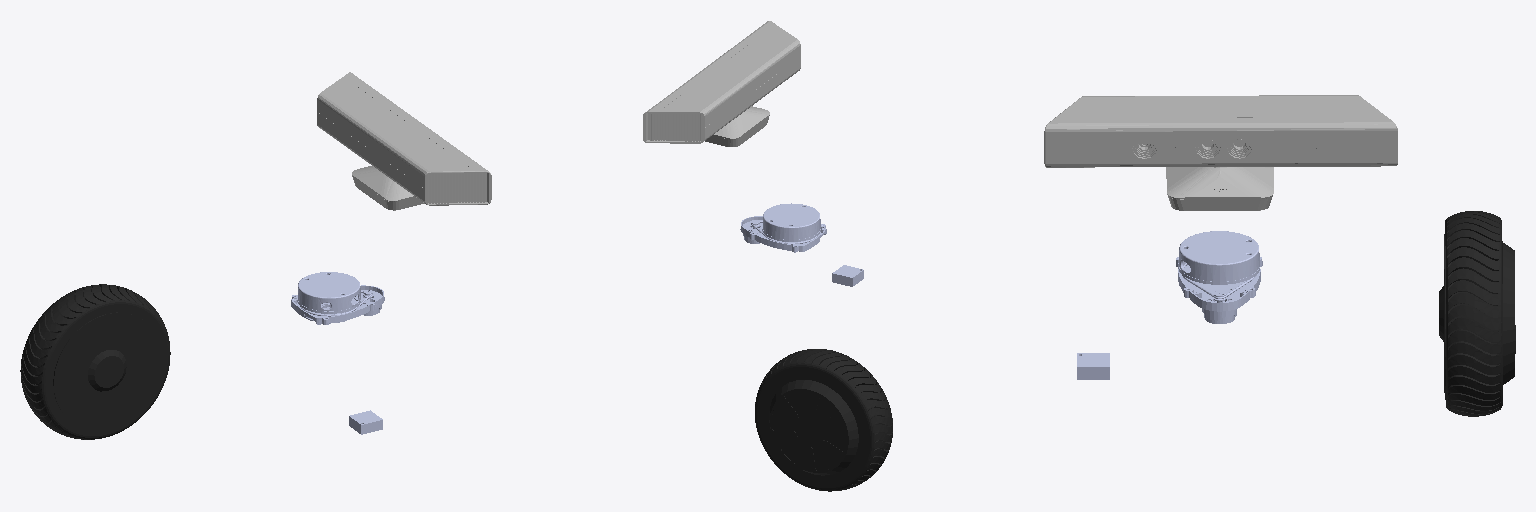
robot.urdf — robot_description_v6:
<?xml version="1.0" encoding="utf-8"?>
<!-- This URDF was automatically created by SolidWorks to URDF Exporter! Originally created by Stephen Brawner (brawner@gmail.com) 
     Commit Version: 1.6.0-4-g7f85cfe  Build Version: 1.6.7995.38578
     For more information, please see http://wiki.ros.org/sw_urdf_exporter -->
<robot
  name="robot_description_v6">
  <link
    name="base_link">
    <inertial>
      <origin
        xyz="0.0283696678283355 -0.00533876695224444 0.0709761613282046"
        rpy="0 0 0" />
      <mass
        value="9.39619068658646" />
      <inertia
        ixx="0.0377507857214502"
        ixy="-0.000252609529514144"
        ixz="0.000472445125057066"
        iyy="0.0596692828570826"
        iyz="-6.23805138012882E-07"
        izz="0.0745531132620247" />
    </inertial>
    <visual>
      <origin
        xyz="0 0 0"
        rpy="0 0 0" />
      <geometry>
        <mesh
          filename="package://robot_description_v6/meshes/base_link.STL" />
      </geometry>
      <material
        name="">
        <color
          rgba="0.752941176470588 0.752941176470588 0.752941176470588 1" />
      </material>
    </visual>
    <collision>
      <origin
        xyz="0 0 0"
        rpy="0 0 0" />
      <geometry>
        <mesh
          filename="package://robot_description_v6/meshes/base_link.STL" />
      </geometry>
    </collision>
  </link>
  <link
    name="lidar_link">
    <inertial>
      <origin
        xyz="0.0148383171368051 0.00044768343099888 -0.0211536208187281"
        rpy="0 0 0" />
      <mass
        value="0.0312409127404862" />
      <inertia
        ixx="8.88026370808536E-06"
        ixy="-1.77664494264146E-07"
        ixz="1.13027679908929E-07"
        iyy="1.44910018203742E-05"
        iyz="3.46076114959003E-08"
        izz="2.25289099518335E-05" />
    </inertial>
    <visual>
      <origin
        xyz="0 0 0"
        rpy="0 0 0" />
      <geometry>
        <mesh
          filename="package://robot_description_v6/meshes/lidar_link.STL" />
      </geometry>
      <material
        name="">
        <color
          rgba="0.792156862745098 0.819607843137255 0.933333333333333 1" />
      </material>
    </visual>
    <collision>
      <origin
        xyz="0 0 0"
        rpy="0 0 0" />
      <geometry>
        <mesh
          filename="package://robot_description_v6/meshes/lidar_link.STL" />
      </geometry>
    </collision>
  </link>
  <joint
    name="lidar"
    type="fixed">
    <origin
      xyz="0.155666725643582 0.00112777065633451 0.146099999998099"
      rpy="0 0 0" />
    <parent
      link="base_link" />
    <child
      link="lidar_link" />
    <axis
      xyz="0 0 0" />
  </joint>
  <link
    name="imu_link">
    <inertial>
      <origin
        xyz="-0.0126528450667811 -0.0126936660237145 -0.00550000000000006"
        rpy="0 0 0" />
      <mass
        value="0.00712049275087492" />
      <inertia
        ixx="4.56098515619146E-07"
        ixy="9.31843930741958E-09"
        ixz="-1.11028325685135E-22"
        iyy="4.56158545750304E-07"
        iyz="-1.42868794364995E-21"
        izz="7.68660457560138E-07" />
    </inertial>
    <visual>
      <origin
        xyz="0 0 0"
        rpy="0 0 0" />
      <geometry>
        <mesh
          filename="package://robot_description_v6/meshes/imu_link.STL" />
      </geometry>
      <material
        name="">
        <color
          rgba="0.792156862745098 0.819607843137255 0.933333333333333 1" />
      </material>
    </visual>
    <collision>
      <origin
        xyz="0 0 0"
        rpy="0 0 0" />
      <geometry>
        <mesh
          filename="package://robot_description_v6/meshes/imu_link.STL" />
      </geometry>
    </collision>
  </link>
  <joint
    name="imu"
    type="continuous">
    <origin
      xyz="0.15399361324347 -0.0854574244366719 0.0409999999999995"
      rpy="0 0 0" />
    <parent
      link="base_link" />
    <child
      link="imu_link" />
    <axis
      xyz="0 0 1" />
  </joint>
  <link
    name="right_wheel_link">
    <inertial>
      <origin
        xyz="0.000243587829778402 -0.0295000990455643 8.01160804364542E-11"
        rpy="0 0 0" />
      <mass
        value="0.98170665090244" />
      <inertia
        ixx="0.00165298851738423"
        ixy="-1.0124915182157E-05"
        ixz="1.30270760846516E-08"
        iyy="0.00287861950962305"
        iyz="5.32883625884099E-10"
        izz="0.00165292257365774" />
    </inertial>
    <visual>
      <origin
        xyz="0 0 0"
        rpy="0 0 0" />
      <geometry>
        <mesh
          filename="package://robot_description_v6/meshes/right_wheel_link.STL" />
      </geometry>
      <material
        name="">
        <color
          rgba="0.2 0.2 0.2 1" />
      </material>
    </visual>
    <collision>
      <origin
        xyz="0 0 0"
        rpy="0 0 0" />
      <geometry>
        <mesh
          filename="package://robot_description_v6/meshes/right_wheel_link.STL" />
      </geometry>
    </collision>
  </link>
  <joint
    name="right_wheel"
    type="continuous">
    <origin
      xyz="0.00157556970077044 -0.175020257687692 0.0150000000042175"
      rpy="0 0 0" />
    <parent
      link="base_link" />
    <child
      link="right_wheel_link" />
    <axis
      xyz="-0.00825691107326283 0.999965911128739 0" />
  </joint>
  <link
    name="left_wheel_link">
    <inertial>
      <origin
        xyz="-0.000243587829778624 0.0295000990455639 8.01149702134296E-11"
        rpy="0 0 0" />
      <mass
        value="0.981706650902443" />
      <inertia
        ixx="0.00165299120834847"
        ixy="-1.01249109871006E-05"
        ixz="-1.4498411509328E-08"
        iyy="0.00287861950901393"
        iyz="7.25004217200697E-11"
        izz="0.00165291988234476" />
    </inertial>
    <visual>
      <origin
        xyz="0 0 0"
        rpy="0 0 0" />
      <geometry>
        <mesh
          filename="package://robot_description_v6/meshes/left_wheel_link.STL" />
      </geometry>
      <material
        name="">
        <color
          rgba="0.2 0.2 0.2 1" />
      </material>
    </visual>
    <collision>
      <origin
        xyz="0 0 0"
        rpy="0 0 0" />
      <geometry>
        <mesh
          filename="package://robot_description_v6/meshes/left_wheel_link.STL" />
      </geometry>
    </collision>
  </link>
  <joint
    name="left_wheel"
    type="continuous">
    <origin
      xyz="-0.00131434917487327 0.174967811207364 0.0150000000042175"
      rpy="0 0 0" />
    <parent
      link="base_link" />
    <child
      link="left_wheel_link" />
    <axis
      xyz="0.00825691107326281 -0.999965911128739 0" />
  </joint>
  <link
    name="camera_link">
    <inertial>
      <origin
        xyz="-0.0286974043856941 -0.00315323141543045 -0.00696427170361802"
        rpy="0 0 0" />
      <mass
        value="0.646454884722171" />
      <inertia
        ixx="0.0028423827313704"
        ixy="1.87273045722636E-05"
        ixz="1.48075090936096E-07"
        iyy="0.000263758634244186"
        iyz="-3.33736128214466E-08"
        izz="0.00296274058967308" />
    </inertial>
    <visual>
      <origin
        xyz="0 0 0"
        rpy="0 0 0" />
      <geometry>
        <mesh
          filename="package://robot_description_v6/meshes/camera_link.STL" />
      </geometry>
      <material
        name="">
        <color
          rgba="0.752941176470588 0.752941176470588 0.752941176470588 1" />
      </material>
    </visual>
    <collision>
      <origin
        xyz="0 0 0"
        rpy="0 0 0" />
      <geometry>
        <mesh
          filename="package://robot_description_v6/meshes/camera_link.STL" />
      </geometry>
    </collision>
  </link>
  <joint
    name="cam"
    type="fixed">
    <origin
      xyz="0.264952270554911 0.00535821231736117 0.284425164615102"
      rpy="0 0 0" />
    <parent
      link="base_link" />
    <child
      link="camera_link" />
    <axis
      xyz="0 0 0" />
  </joint>
</robot>

--- Facts derived from the render (not from the file) ---
Views: 3 orthographic renders of the robot side by side, from view 1: azimuth 30°, elevation 25°; view 2: azimuth 150°, elevation 25°; view 3: azimuth 270°, elevation 25°.
Robot: robot_description_v6 — 6 links, 5 joints (3 continuous, 2 fixed); root link base_link; default pose: all joints at 0.
Links seen in each view (by area): view 1: left_wheel_link, camera_link, lidar_link, imu_link; view 2: left_wheel_link, camera_link, lidar_link; view 3: camera_link, left_wheel_link, lidar_link, imu_link.
Link boxes in pixels (<box>): left_wheel_link: <box>20,284,170,439</box>; camera_link: <box>317,72,491,210</box>; lidar_link: <box>291,272,384,324</box>; imu_link: <box>349,410,382,434</box>; left_wheel_link: <box>755,349,892,491</box>; camera_link: <box>643,21,800,146</box>; lidar_link: <box>740,203,826,252</box>; camera_link: <box>1044,95,1397,210</box>; left_wheel_link: <box>1439,211,1515,416</box>; lidar_link: <box>1176,231,1262,323</box>; imu_link: <box>1077,353,1109,379</box>.
Size in the robot's own frame: 0.3557 by 0.3724 by 0.3699 metres.
Meshes: 6 distinct files referenced, 4 mesh visuals loaded (4 binary STL); not drawn: 2 (reference not matched to a file when rendering).
